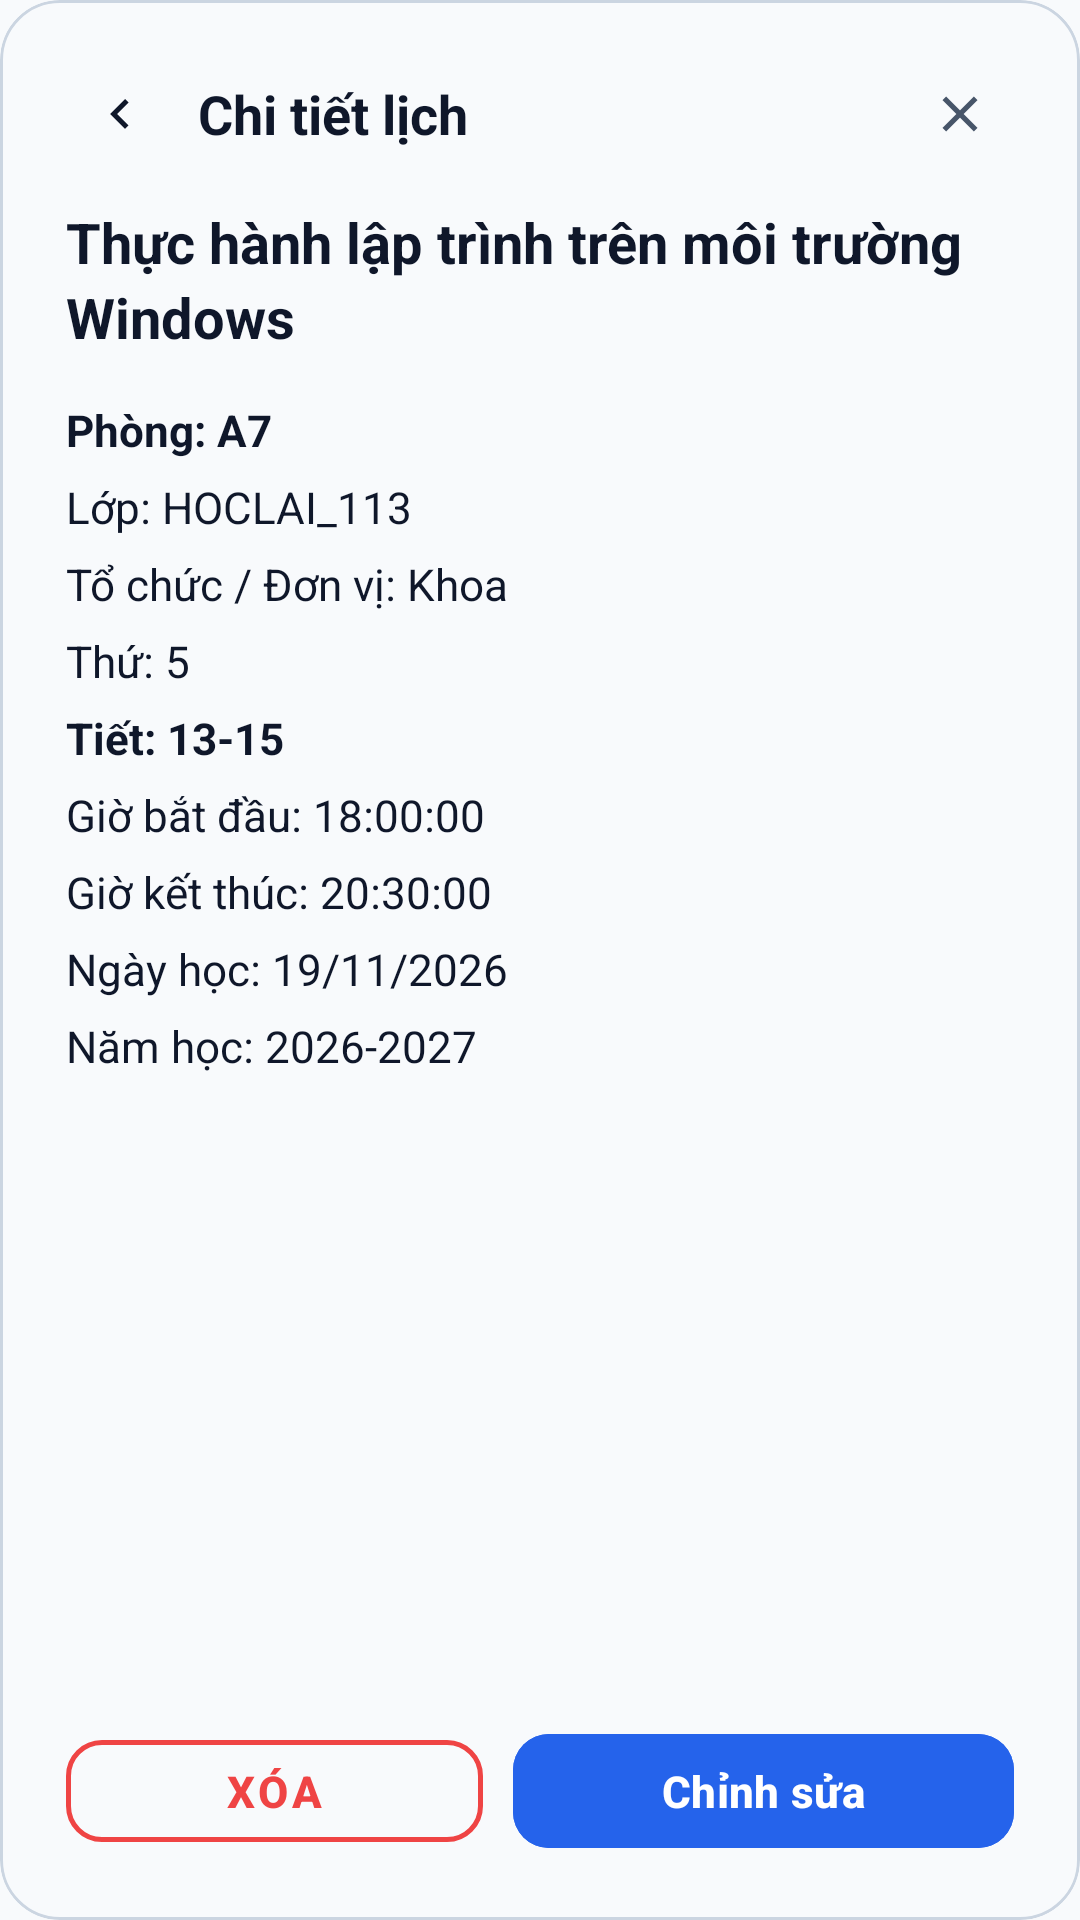

Where to tap for icons on this 1080x1920 app screen, as (x=x, y=y):
Quay lại: (x=119, y=114)
Đóng: (x=960, y=114)
